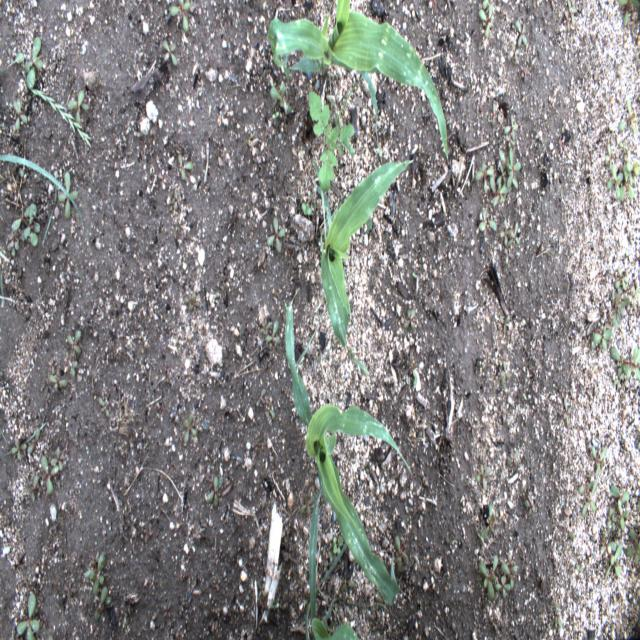crop: (284, 298, 414, 602), (268, 1, 451, 161), (322, 158, 417, 376), (304, 495, 361, 639)
weed: (306, 89, 357, 229), (0, 151, 81, 213), (26, 89, 93, 152), (472, 146, 523, 206), (2, 34, 46, 90), (25, 447, 65, 502), (8, 202, 42, 263), (604, 140, 638, 197), (82, 550, 111, 614), (477, 554, 519, 596), (611, 266, 637, 326), (55, 172, 85, 223), (609, 338, 638, 388), (6, 427, 41, 462), (15, 589, 40, 638), (62, 320, 82, 379), (608, 484, 632, 532), (506, 18, 530, 64), (600, 528, 622, 578), (594, 316, 615, 364), (475, 1, 503, 37), (264, 217, 287, 259), (270, 81, 292, 120), (578, 477, 599, 516), (498, 218, 520, 255), (175, 148, 195, 188), (168, 3, 194, 33), (618, 96, 638, 133), (46, 361, 69, 393), (261, 314, 281, 350), (588, 442, 606, 482), (71, 88, 90, 125), (11, 95, 30, 131), (476, 206, 500, 234), (479, 500, 496, 538), (395, 531, 409, 575), (208, 471, 225, 507), (626, 520, 638, 570), (523, 487, 540, 522), (180, 414, 198, 446), (496, 310, 518, 334), (617, 5, 637, 31), (160, 38, 178, 66), (503, 110, 520, 139), (490, 97, 504, 130), (498, 354, 508, 394), (404, 367, 422, 389), (560, 394, 572, 426), (401, 306, 418, 328), (95, 396, 111, 419), (0, 264, 8, 308), (477, 463, 493, 485), (557, 133, 573, 155), (562, 4, 576, 28), (300, 489, 312, 513), (299, 200, 313, 220), (254, 388, 268, 407), (552, 604, 563, 628), (246, 125, 259, 145), (264, 400, 276, 420), (62, 581, 75, 599), (518, 64, 531, 82), (565, 524, 577, 542), (519, 385, 530, 404), (341, 576, 355, 590), (333, 532, 343, 551), (574, 560, 584, 576)
